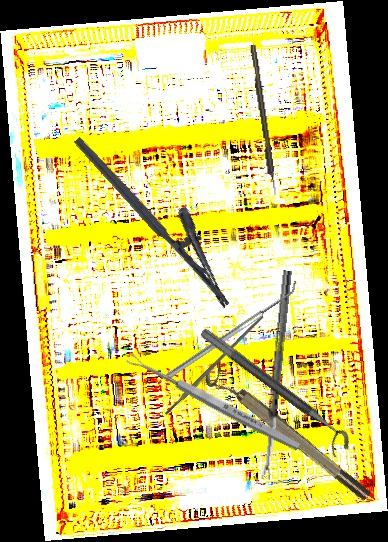Fixation Ring: (201, 359, 374, 511), (189, 326, 357, 462)
Hook Surgical: (249, 44, 278, 196)
Needle Holder: (72, 115, 254, 310)
Scalpel Handle: (163, 314, 265, 416)
Spatula Surgical: (162, 280, 302, 379)
Surgical Spoon: (125, 351, 302, 453), (260, 270, 292, 480)
